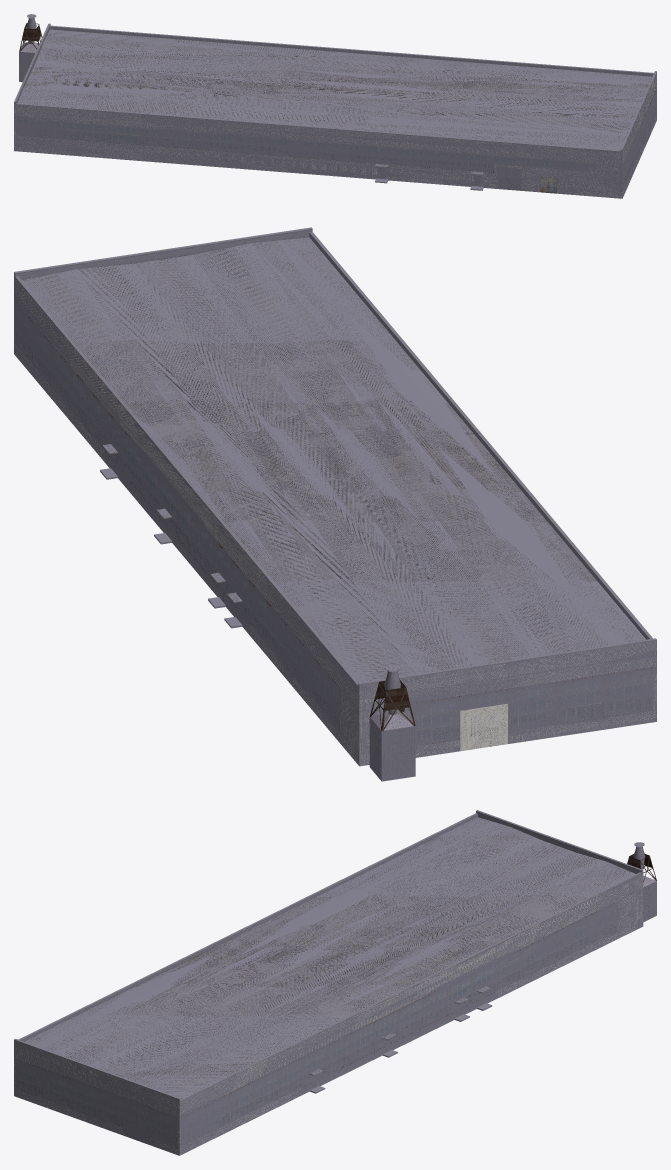
Rendered from Sklad4.fbx.
3 renders of one model, top to bottom at view 1: azimuth 30°, elevation 25°; view 2: azimuth 150°, elevation 25°; view 3: azimuth 270°, elevation 25°, orthographic. The views are drawn at different scales.
Parts seen in each view (by area): view 1: Group1; view 2: Group1; view 3: Group1.
Part boxes in pixels (x1,y1,x2,y2): Group1: [14, 14, 656, 198]; Group1: [14, 227, 656, 781]; Group1: [14, 810, 656, 1155].
Bounding box in the file's own units: 110 × 12.77 × 104.
